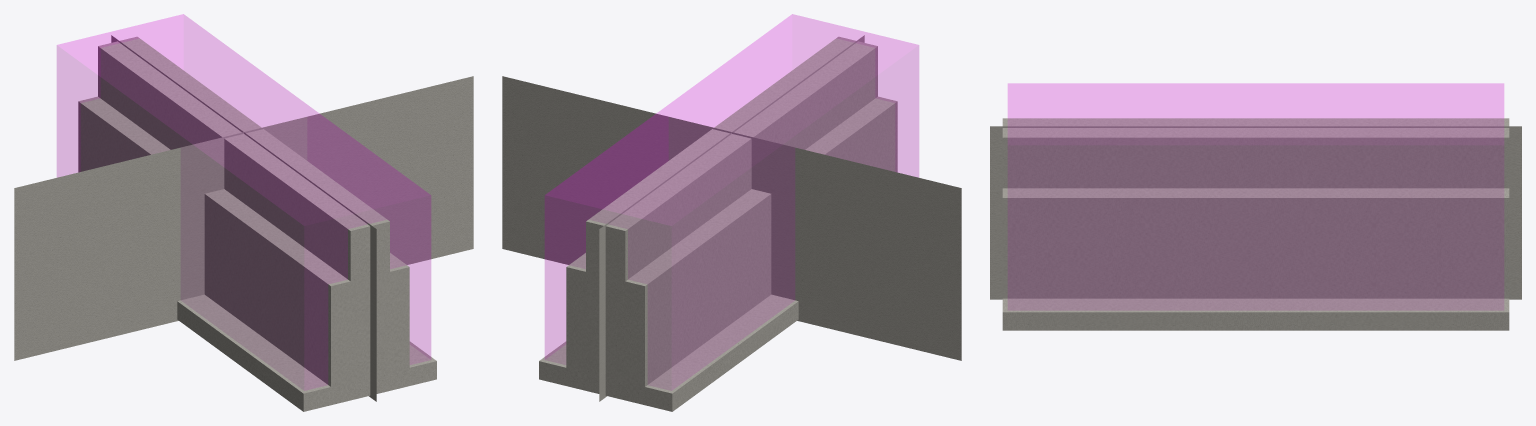
The model's file is krail_blank_2m.dae.
3 views of the same model, side by side, from view 1: azimuth 30°, elevation 25°; view 2: azimuth 150°, elevation 25°; view 3: azimuth 270°, elevation 25° (orthographic).
Parts seen in each view (by area): view 1: Colmesh_krail-1, krail_blank_2m_a50, krail_blank_2m_a800, krail_blank_2m_a200; view 2: Colmesh_krail-1, krail_blank_2m_a50, krail_blank_2m_a800, krail_blank_2m_a200; view 3: krail_blank_2m_a800, Colmesh_krail-1, krail_blank_2m_a200, krail_blank_2m_a50.
Part boxes in pixels (box(x1,y1,x2,y2)): Colmesh_krail-1: box(57, 14, 430, 390); krail_blank_2m_a50: box(14, 35, 473, 401); krail_blank_2m_a800: box(78, 36, 436, 411); krail_blank_2m_a200: box(204, 214, 409, 386); Colmesh_krail-1: box(545, 14, 918, 390); krail_blank_2m_a50: box(502, 35, 961, 401); krail_blank_2m_a800: box(539, 36, 897, 411); krail_blank_2m_a200: box(568, 97, 897, 386); krail_blank_2m_a800: box(1002, 118, 1509, 330); Colmesh_krail-1: box(1008, 83, 1503, 309); krail_blank_2m_a200: box(1002, 188, 1503, 298); krail_blank_2m_a50: box(990, 126, 1521, 299).
Size of the model in its own units: 2.1 by 2.1 by 0.8074.
2 materials, 1 textured.
